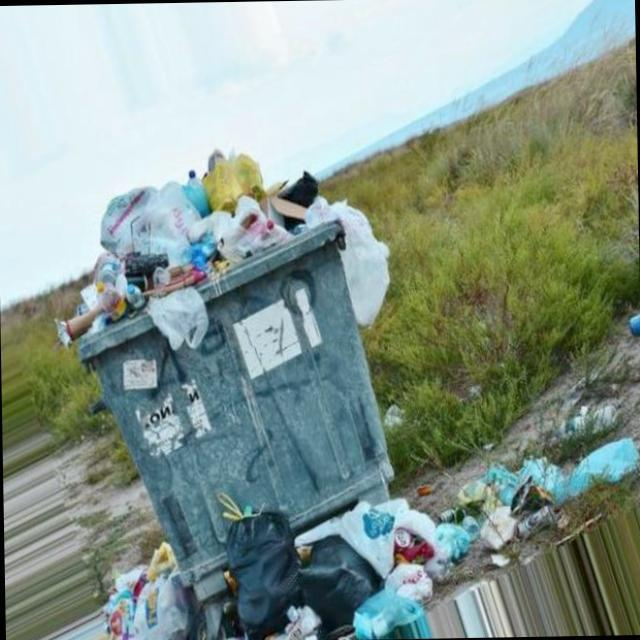garbage: (44, 152, 390, 367), (84, 481, 430, 640), (469, 432, 640, 515), (433, 494, 481, 586), (482, 516, 548, 568), (372, 398, 413, 434), (608, 309, 640, 333)
